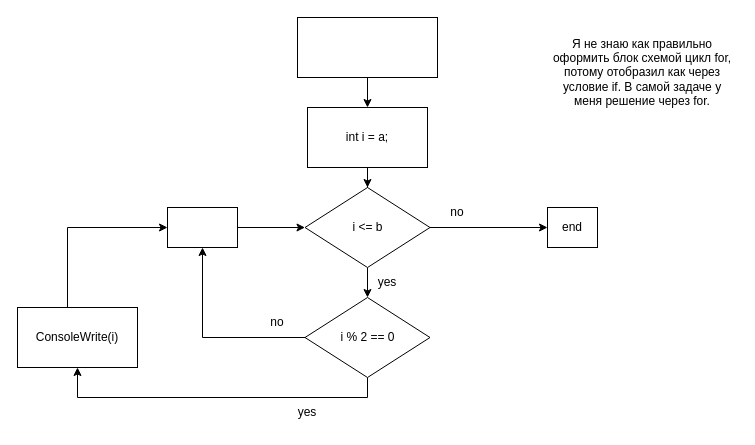
Image size: 755x445. Some labels were removed from this diagram. Here are the shapes that lost their labels. From the top down, the centre of each, then its label:
At point (367, 47): "int a = 1 int b = Console.Read()".
At point (202, 227): "i++".
